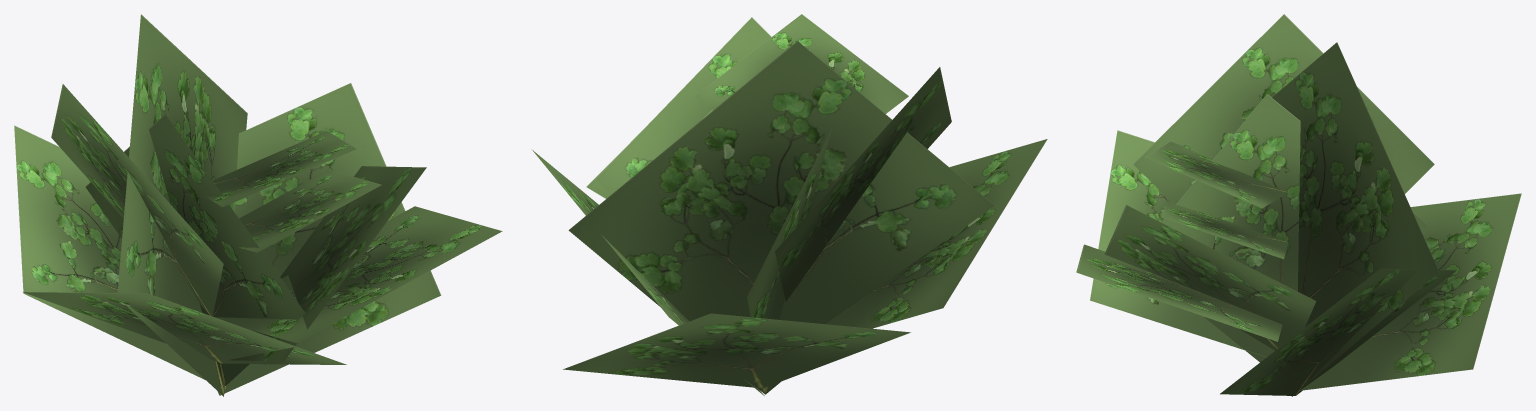
The model's file is bush04_lod02.FBX.
3 renders of one model, left to right at view 1: azimuth 30°, elevation 25°; view 2: azimuth 150°, elevation 25°; view 3: azimuth 270°, elevation 25°, orthographic. The views are drawn at different scales.
Parts seen in each view (by area): view 1: bush04_lod02; view 2: bush04_lod02; view 3: bush04_lod02.
Boxes of the visible parts, bbox=[...] form: bush04_lod02: bbox=[14, 14, 502, 396]; bush04_lod02: bbox=[531, 14, 1047, 395]; bush04_lod02: bbox=[1076, 14, 1521, 396].
Size of the model in its own units: 113 by 110 by 134.
1 material, 1 textured.
